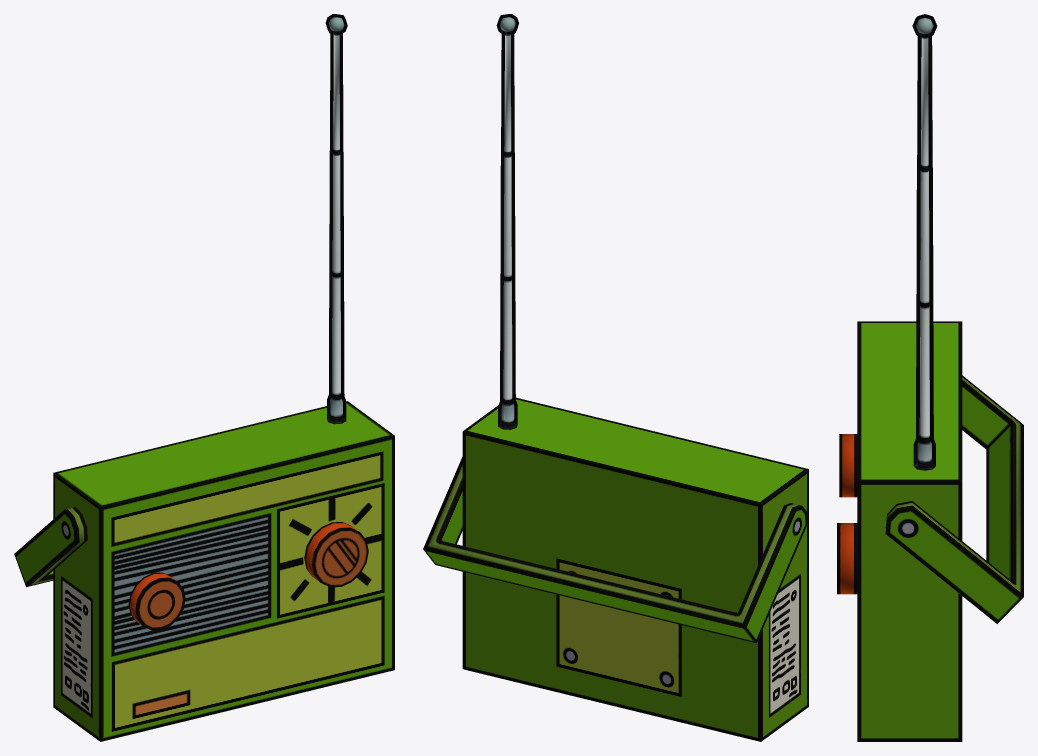
File: Radio.glb
The picture shows the model from 3 angles, left to right: view 1: azimuth 30°, elevation 25°; view 2: azimuth 150°, elevation 25°; view 3: azimuth 270°, elevation 25°; orthographic projection. The views are drawn at different scales.
Parts seen in each view (by area): view 1: Radio, Antenna, Handle; view 2: Radio, Handle, Antenna; view 3: Radio, Handle, Antenna.
Boxes of the visible parts, x1,y1,x2,y2 form: Radio: [53, 401, 394, 741]; Antenna: [325, 14, 347, 424]; Handle: [14, 507, 87, 587]; Radio: [462, 397, 808, 741]; Handle: [423, 457, 807, 643]; Antenna: [496, 14, 518, 429]; Radio: [837, 321, 962, 741]; Handle: [885, 375, 1023, 623]; Antenna: [912, 14, 937, 470].
Size of the model in its own units: 0.8358 by 1.61 by 0.3836.
Materials: 2 (1 with a texture image).
